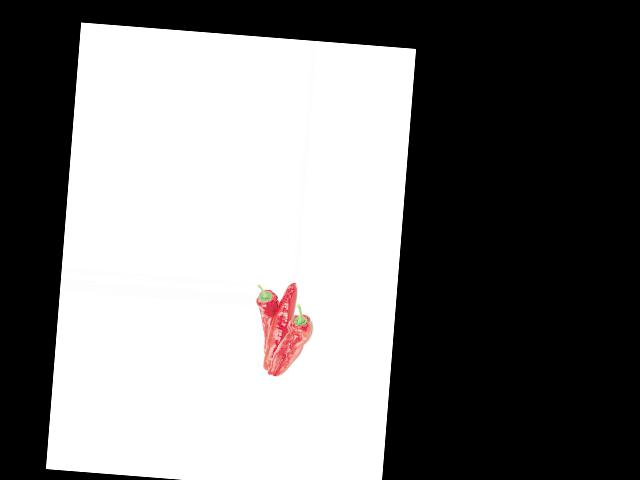bell_pepper: (276, 301, 316, 380)
